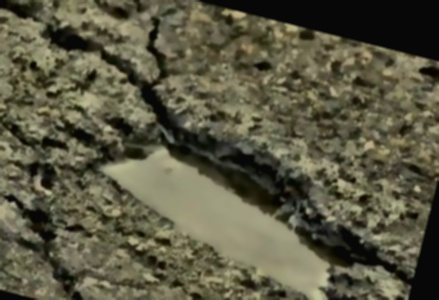pothole: (57, 96, 417, 300)
